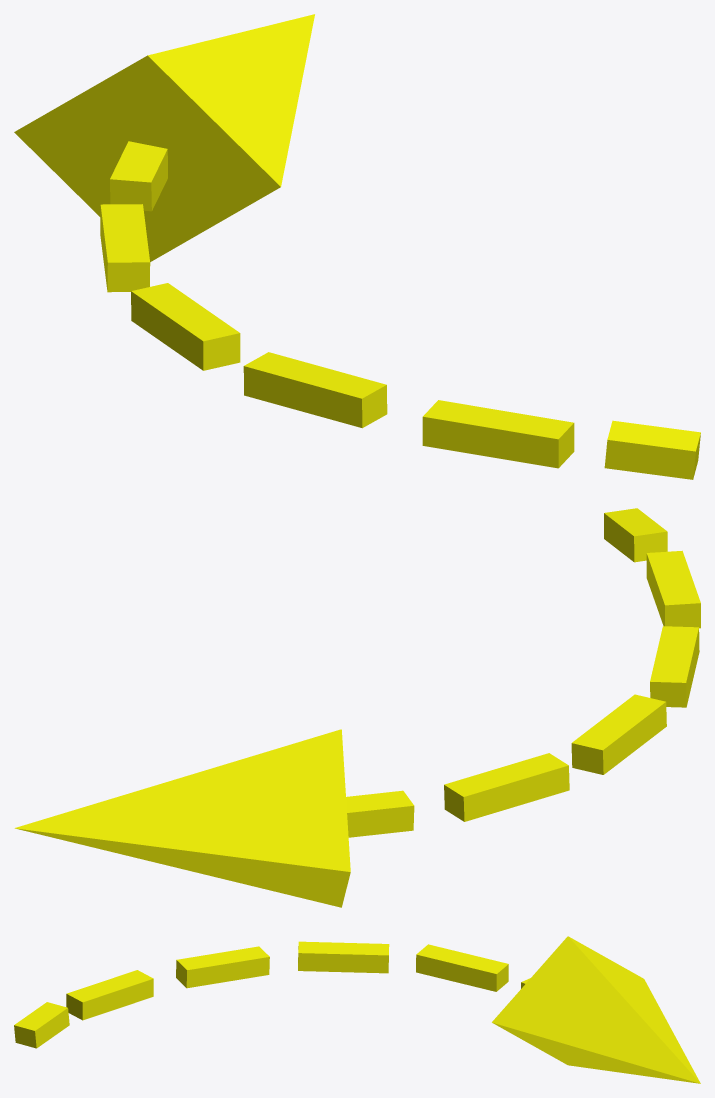
File: curved-arrow.glb
3 renders of one model, top to bottom at view 1: azimuth 30°, elevation 25°; view 2: azimuth 150°, elevation 25°; view 3: azimuth 270°, elevation 25°, orthographic. The views are drawn at different scales.
Parts seen in each view (by area): view 1: Cone, Cube.001, Cube.002, Cube.003, Cube.006, Cube.004, Cube.005; view 2: Cone, Cube.004, Cube.003, Cube.001, Cube.002, Cube.005, Cube.006; view 3: Cone, Cube.004, Cube.002, Cube.003, Cube.001, Cube.006.
Part boxes in pixels (<box>): Cone: <box>14,14,314,261</box>; Cube.001: <box>422,400,574,468</box>; Cube.002: <box>243,352,387,428</box>; Cube.003: <box>131,283,240,370</box>; Cube.006: <box>604,420,700,479</box>; Cube.004: <box>100,204,150,292</box>; Cube.005: <box>110,141,167,211</box>; Cone: <box>14,729,350,907</box>; Cube.004: <box>444,753,569,821</box>; Cube.003: <box>571,694,666,774</box>; Cube.001: <box>646,550,700,628</box>; Cube.002: <box>650,626,699,707</box>; Cube.005: <box>346,790,414,837</box>; Cube.006: <box>604,508,667,562</box>; Cone: <box>492,936,700,1083</box>; Cube.004: <box>416,944,508,991</box>; Cube.002: <box>176,946,269,988</box>; Cube.003: <box>298,941,389,973</box>; Cube.001: <box>66,970,153,1020</box>; Cube.006: <box>14,1002,69,1048</box>.
Bounding box in the file's own units: 1.68 × 0.765 × 3.68.
